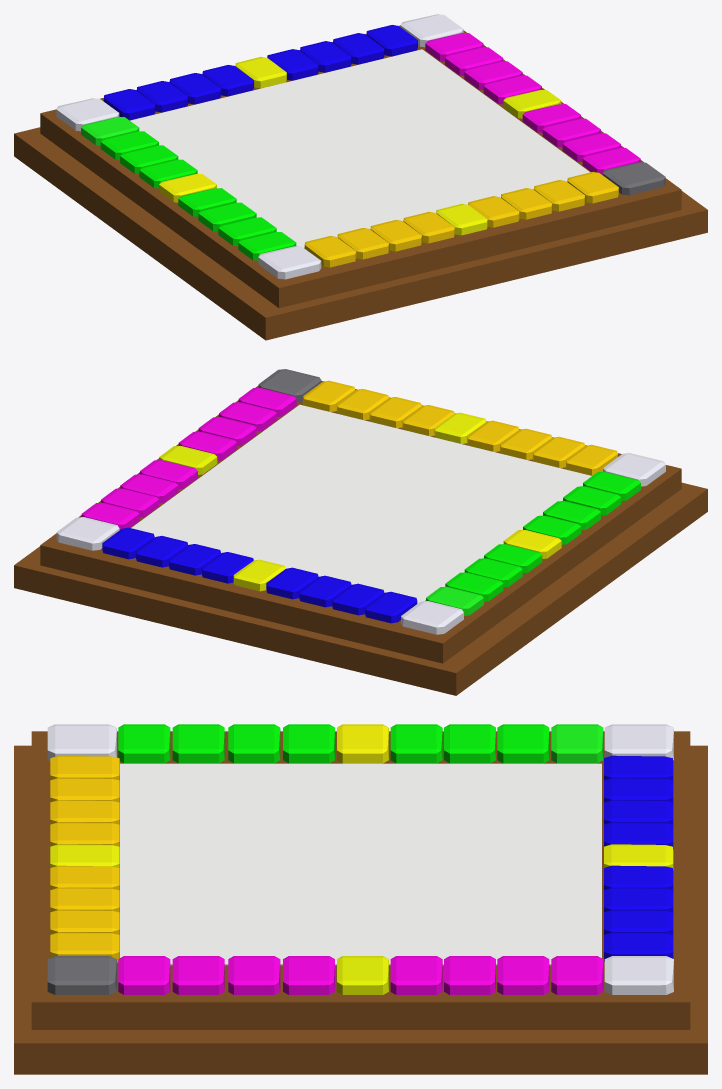
Rendered from gamebord.fbx.
The picture shows the model from 3 angles, top to bottom: view 1: azimuth 30°, elevation 25°; view 2: azimuth 150°, elevation 25°; view 3: azimuth 270°, elevation 25°; orthographic projection. The views are drawn at different scales.
Visible parts, largest first — view 1: 오브젝트.002, 오브젝트.001, 오브젝트, Cube.022, Cube.014, Cube.031, Cube.005, Cube.001, Cube.021, Cube.040, Cube.002, Cube.018 (+31 smaller); view 2: 오브젝트.002, 오브젝트.001, 오브젝트, Cube.031, Cube.005, Cube.022, Cube.014, Cube.021, Cube.001, Cube.002, Cube.017, Cube.019 (+31 smaller); view 3: 오브젝트.002, 오브젝트.001, 오브젝트, Cube.005, Cube.014, Cube.022, Cube.031, Cube.029, Cube.030, Cube.032, Cube.026, Cube.027 (+31 smaller).
Part boxes in pixels (x1,y1,x2,y2): 오브젝트.002: [130, 49, 589, 247]; 오브젝트.001: [14, 127, 707, 340]; 오브젝트: [40, 25, 681, 308]; Cube.022: [258, 246, 321, 279]; Cube.014: [602, 162, 665, 195]; Cube.031: [56, 98, 119, 131]; Cube.005: [400, 14, 463, 47]; Cube.001: [304, 236, 356, 267]; Cube.021: [103, 89, 155, 120]; Cube.040: [567, 172, 618, 203]; Cube.002: [366, 25, 417, 56]; Cube.018: [136, 81, 188, 112]; 오브젝트.002: [131, 404, 591, 603]; 오브젝트.001: [14, 482, 707, 695]; 오브젝트: [40, 381, 681, 663]; Cube.031: [400, 601, 463, 634]; Cube.005: [56, 517, 119, 550]; Cube.022: [603, 453, 665, 486]; Cube.014: [258, 369, 321, 402]; Cube.021: [365, 591, 417, 623]; Cube.001: [566, 444, 617, 475]; Cube.002: [102, 527, 154, 559]; Cube.017: [299, 575, 351, 607]; Cube.019: [266, 567, 318, 599]; 오브젝트.002: [120, 763, 601, 965]; 오브젝트.001: [14, 745, 707, 1074]; 오브젝트: [31, 731, 690, 1029]; Cube.005: [604, 956, 673, 994]; Cube.014: [47, 956, 116, 994]; Cube.022: [47, 724, 116, 760]; Cube.031: [604, 724, 673, 760]; Cube.029: [390, 724, 442, 763]; Cube.030: [497, 724, 549, 763]; Cube.032: [551, 724, 603, 763]; Cube.026: [172, 724, 224, 763]; Cube.027: [228, 724, 280, 763].
Size of the model in its own units: 4063 by 462 by 4005.
